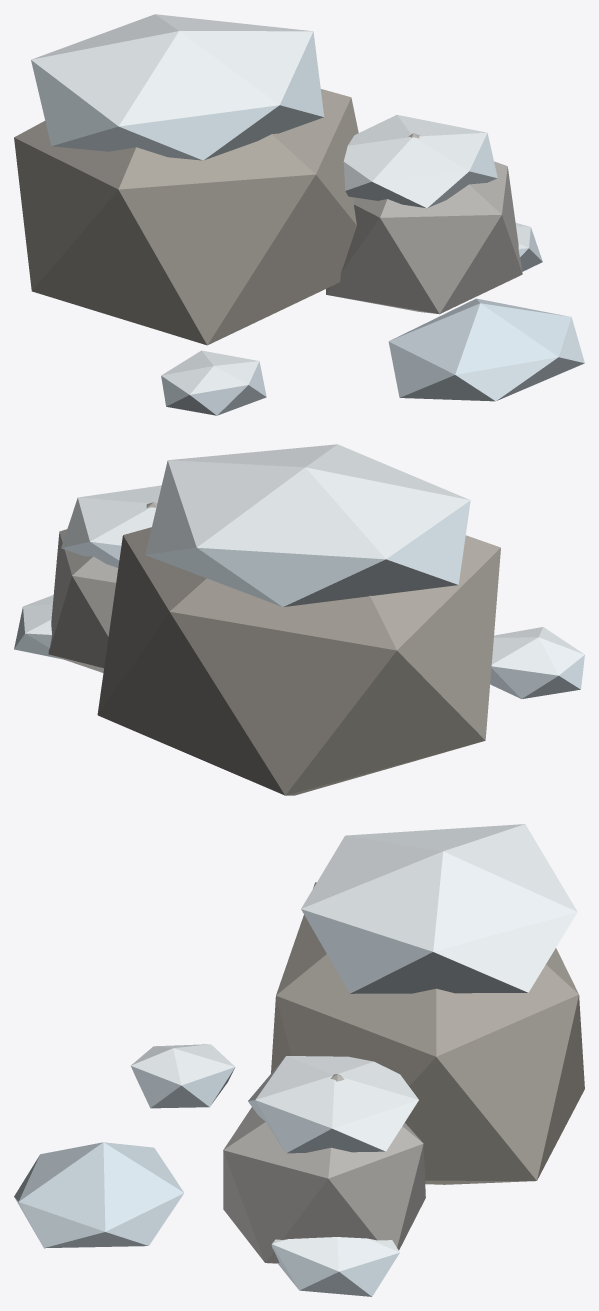
The model's file is rock_cluster_snow_small.glb.
3 views of the same model, one above another, from view 1: azimuth 30°, elevation 25°; view 2: azimuth 150°, elevation 25°; view 3: azimuth 270°, elevation 25° (orthographic). The views are drawn at different scales.
Parts seen in each view (by area): view 1: rock_cluster_snow_small; view 2: rock_cluster_snow_small; view 3: rock_cluster_snow_small.
Boxes of the visible parts, x1,y1,x2,y2 form: rock_cluster_snow_small: [14, 14, 584, 415]; rock_cluster_snow_small: [14, 444, 584, 795]; rock_cluster_snow_small: [14, 824, 584, 1296].
Bounding box in the file's own units: 0.8856 × 0.5524 × 0.8697.
